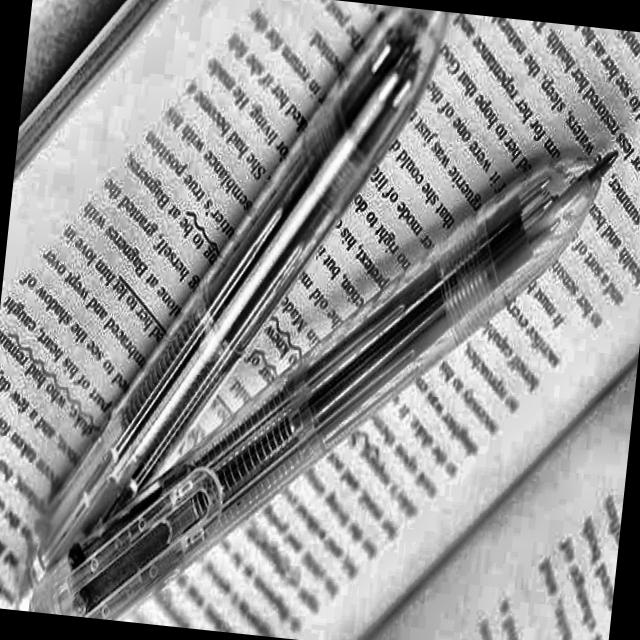Pen: (10, 88, 621, 640), (11, 0, 447, 640)
